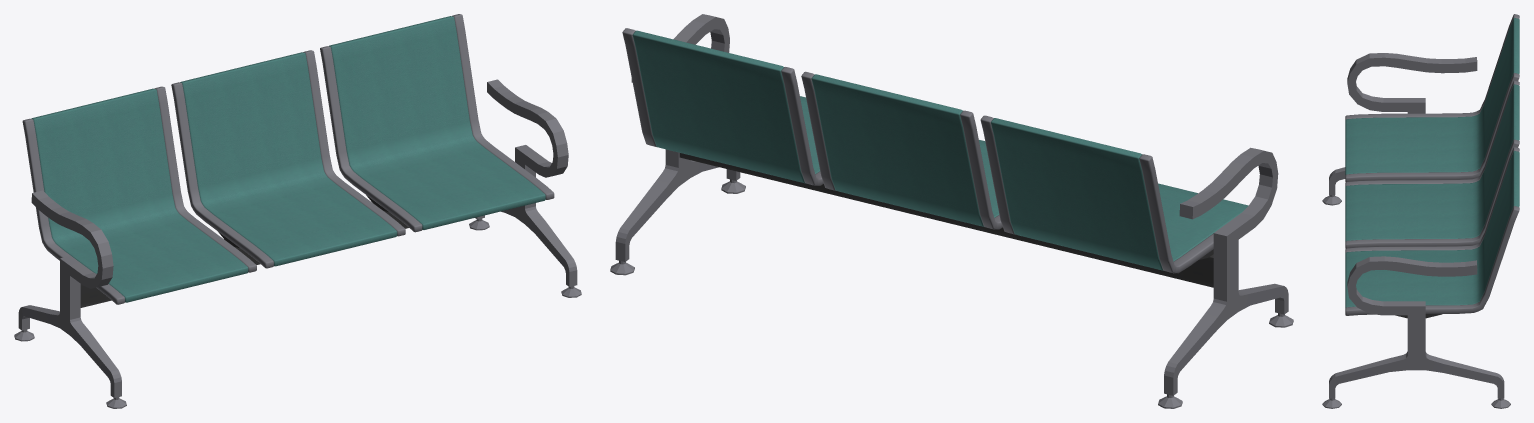
File: chair triple.FBX
3 renders of one model, left to right at view 1: azimuth 30°, elevation 25°; view 2: azimuth 150°, elevation 25°; view 3: azimuth 270°, elevation 25°, orthographic. The views are drawn at different scales.
Visible parts, largest first — view 1: chair triple; view 2: chair triple; view 3: chair triple.
Boxes of the visible parts, left/top/right/bottom form: chair triple: left=14, top=14, right=581, bottom=408; chair triple: left=610, top=14, right=1293, bottom=408; chair triple: left=1322, top=14, right=1519, bottom=408.
Bounding box in the file's own units: 77.32 × 30.42 × 32.59.
